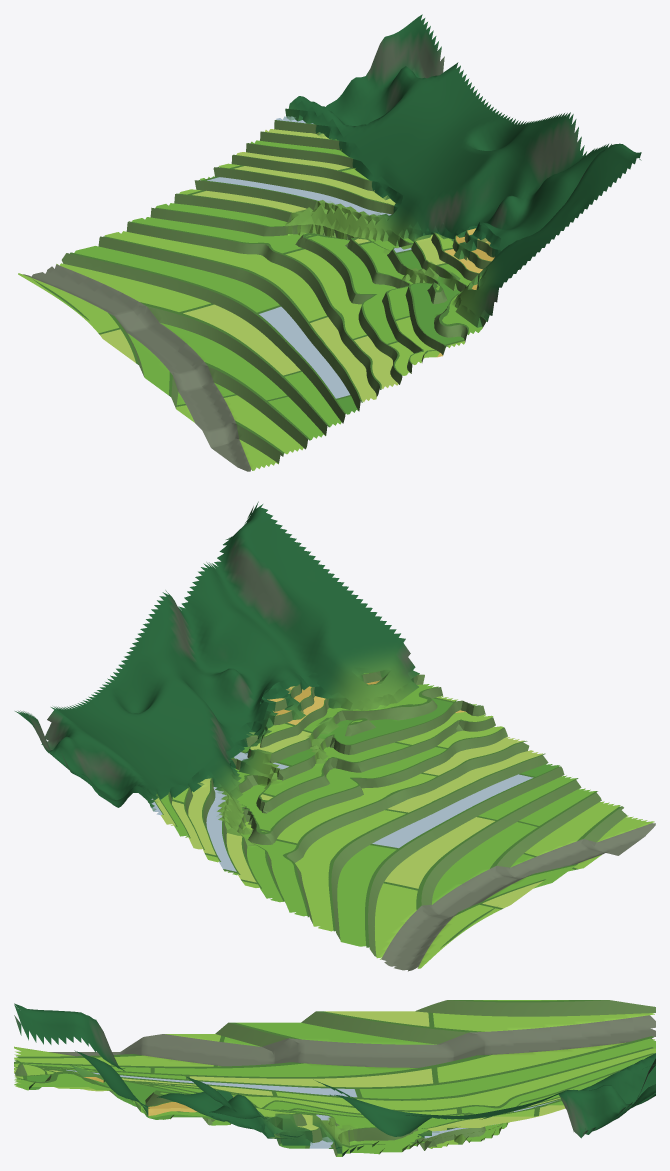
File: payo_land_xm1_y1.glb
3 renders of one model, top to bottom at view 1: azimuth 30°, elevation 25°; view 2: azimuth 150°, elevation 25°; view 3: azimuth 270°, elevation 25°, orthographic. The views are drawn at different scales.
Parts seen in each view (by area): view 1: payo_land_xm1_y1; view 2: payo_land_xm1_y1; view 3: payo_land_xm1_y1.
Boxes of the visible parts, x1,y1,x2,y2 form: payo_land_xm1_y1: (18, 14, 641, 471); payo_land_xm1_y1: (15, 501, 655, 971); payo_land_xm1_y1: (14, 1000, 655, 1156).
Size of the model in its own units: 258 by 139 by 258.
